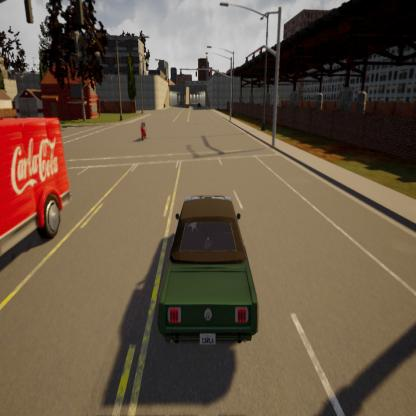Cars: (157, 195, 258, 350), (0, 115, 71, 260), (140, 118, 147, 144)
